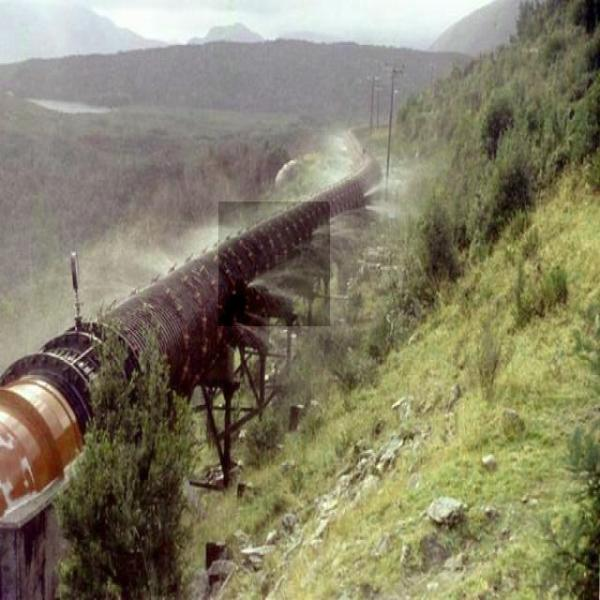water: (218, 202, 330, 326)
